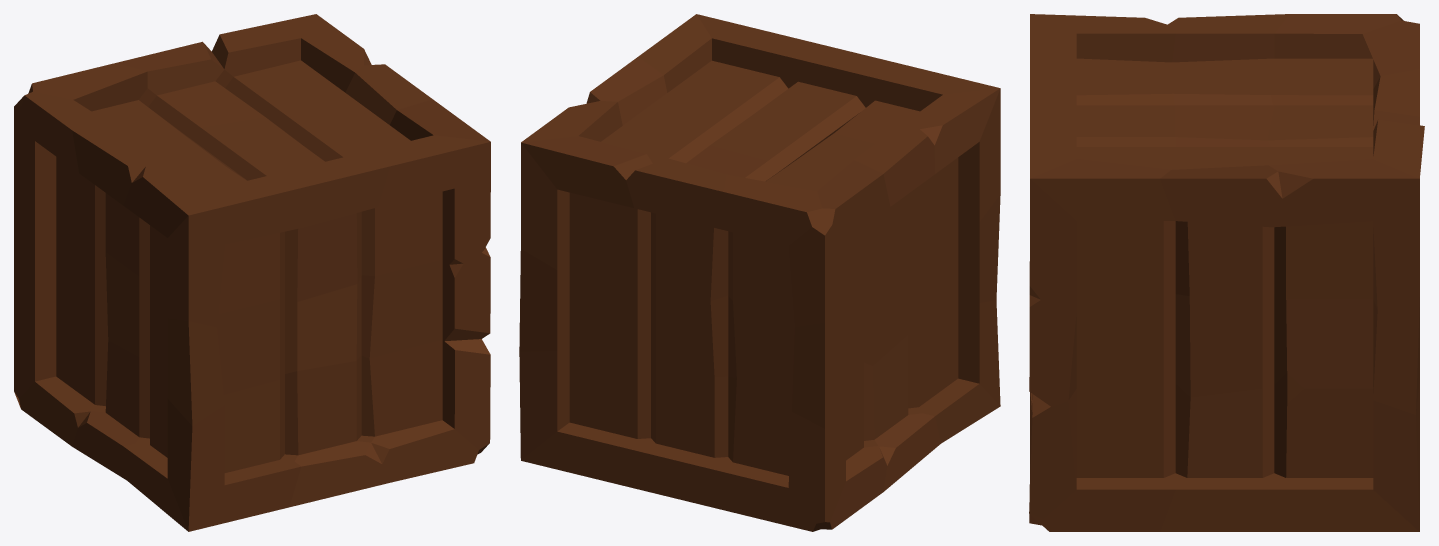
Rendered from Crate.fbx.
The picture shows the model from 3 angles, left to right: view 1: azimuth 30°, elevation 25°; view 2: azimuth 150°, elevation 25°; view 3: azimuth 270°, elevation 25°; orthographic projection. The views are drawn at different scales.
Parts seen in each view (by area): view 1: Crate.015; view 2: Crate.015; view 3: Crate.015.
Part boxes in pixels (left/top/right/bottom): Crate.015: left=14, top=14, right=490, bottom=531; Crate.015: left=519, top=14, right=1000, bottom=531; Crate.015: left=1029, top=14, right=1424, bottom=531.
Bounding box in the file's own units: 122 × 122 × 122.
